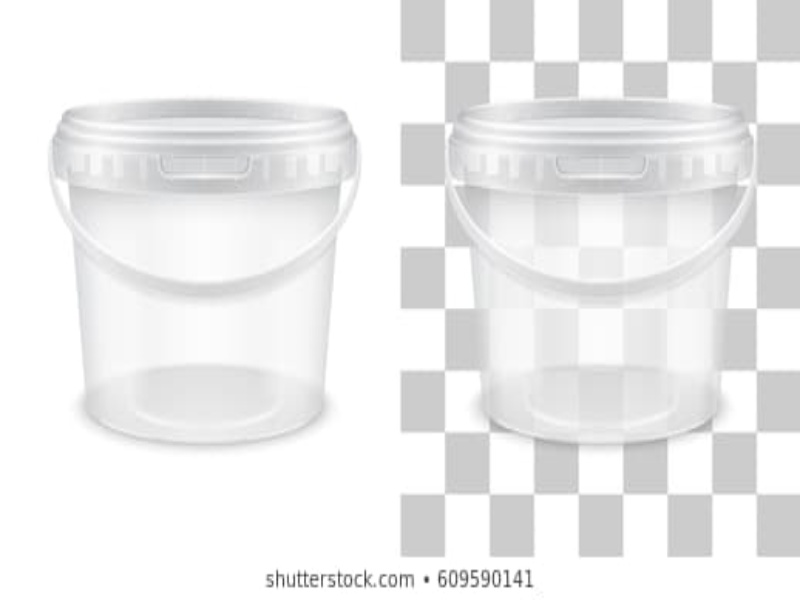plastic-container: (444, 96, 747, 442), (47, 101, 351, 445)
